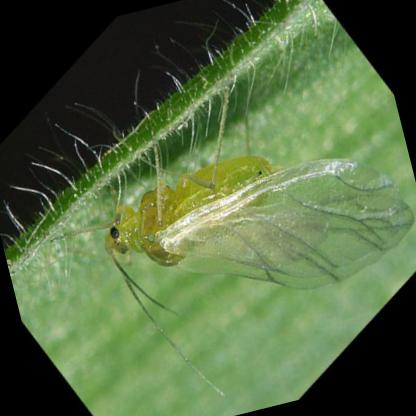schizaphis graminum: (61, 156, 416, 291)
